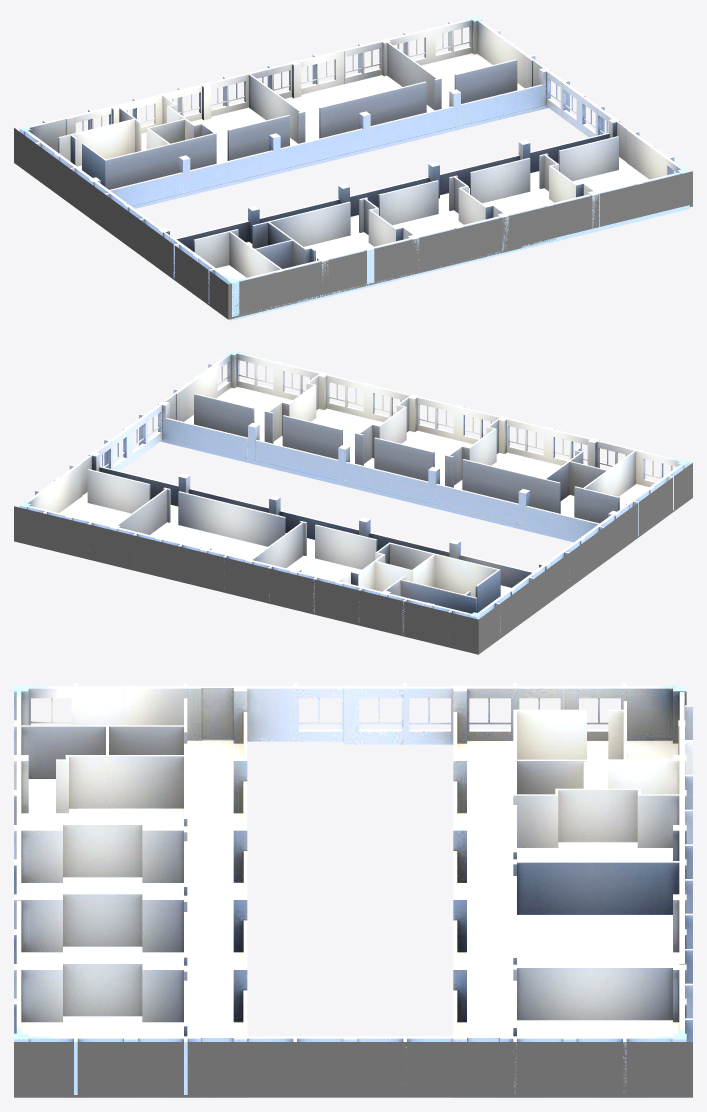
The picture shows the model from 3 angles, top to bottom: view 1: azimuth 30°, elevation 25°; view 2: azimuth 150°, elevation 25°; view 3: azimuth 270°, elevation 25°; orthographic projection. The views are drawn at different scales.
Parts seen in each view (by area): view 1: hb_2floor_guodao_12, hb_2floor_wlm_1, hb_2floor_room03_4, hb_2floor_room01_2, hb_2floor_room04_5, hb_2floor_room02_3, hb_2floor_room07_8, hb_2floor_room10_11, hb_2floor_room09_10, hb_2floor_room08_9, hb_2floor_room05_6, hb_2floor_room06_7; view 2: hb_2floor_wlm_1, hb_2floor_guodao_12, hb_2floor_room07_8, hb_2floor_room03_4, hb_2floor_room09_10, hb_2floor_room10_11, hb_2floor_room08_9, hb_2floor_room01_2, hb_2floor_room04_5, hb_2floor_room02_3, hb_2floor_room05_6, hb_2floor_room06_7; view 3: hb_2floor_guodao_12, hb_2floor_wlm_1, hb_2floor_room03_4, hb_2floor_room07_8, hb_2floor_room10_11, hb_2floor_room04_5, hb_2floor_room02_3, hb_2floor_room09_10, hb_2floor_room08_9, hb_2floor_room01_2, hb_2floor_room05_6, hb_2floor_room06_7.
Boxes of the visible parts, box(x1,y1,x2,y2) form: hb_2floor_guodao_12: box(19, 57, 689, 320); hb_2floor_wlm_1: box(14, 128, 692, 319); hb_2floor_room03_4: box(248, 39, 438, 142); hb_2floor_room01_2: box(70, 93, 215, 189); hb_2floor_room04_5: box(384, 16, 535, 109); hb_2floor_room02_3: box(163, 72, 302, 163); hb_2floor_room07_8: box(254, 198, 418, 283); hb_2floor_room10_11: box(544, 131, 688, 226); hb_2floor_room09_10: box(454, 154, 598, 229); hb_2floor_room08_9: box(364, 176, 508, 267); hb_2floor_room05_6: box(173, 231, 283, 316); hb_2floor_room06_7: box(229, 221, 292, 249); hb_2floor_wlm_1: box(14, 463, 692, 654); hb_2floor_guodao_12: box(75, 390, 633, 632); hb_2floor_room07_8: box(448, 416, 636, 509); hb_2floor_room03_4: box(112, 488, 303, 563); hb_2floor_room09_10: box(268, 372, 412, 464); hb_2floor_room10_11: box(173, 350, 321, 442); hb_2floor_room08_9: box(358, 394, 502, 486); hb_2floor_room01_2: box(334, 542, 500, 621); hb_2floor_room04_5: box(19, 464, 167, 529); hb_2floor_room02_3: box(249, 521, 389, 612); hb_2floor_room05_6: box(583, 449, 689, 535); hb_2floor_room06_7: box(544, 461, 607, 519); hb_2floor_guodao_12: box(14, 683, 692, 1097); hb_2floor_wlm_1: box(14, 1042, 692, 1097); hb_2floor_room03_4: box(513, 862, 692, 983); hb_2floor_room07_8: box(14, 726, 187, 829); hb_2floor_room10_11: box(14, 963, 187, 1094); hb_2floor_room04_5: box(513, 967, 692, 1093); hb_2floor_room02_3: box(513, 789, 692, 878); hb_2floor_room09_10: box(14, 893, 187, 969); hb_2floor_room08_9: box(14, 824, 187, 899); hb_2floor_room01_2: box(513, 709, 692, 809); hb_2floor_room05_6: box(14, 683, 187, 725); hb_2floor_room06_7: box(107, 726, 187, 755).
Size of the model in its own units: 4.7 by 0.359 by 3.76.
Materials: 12 (11 with a texture image).
